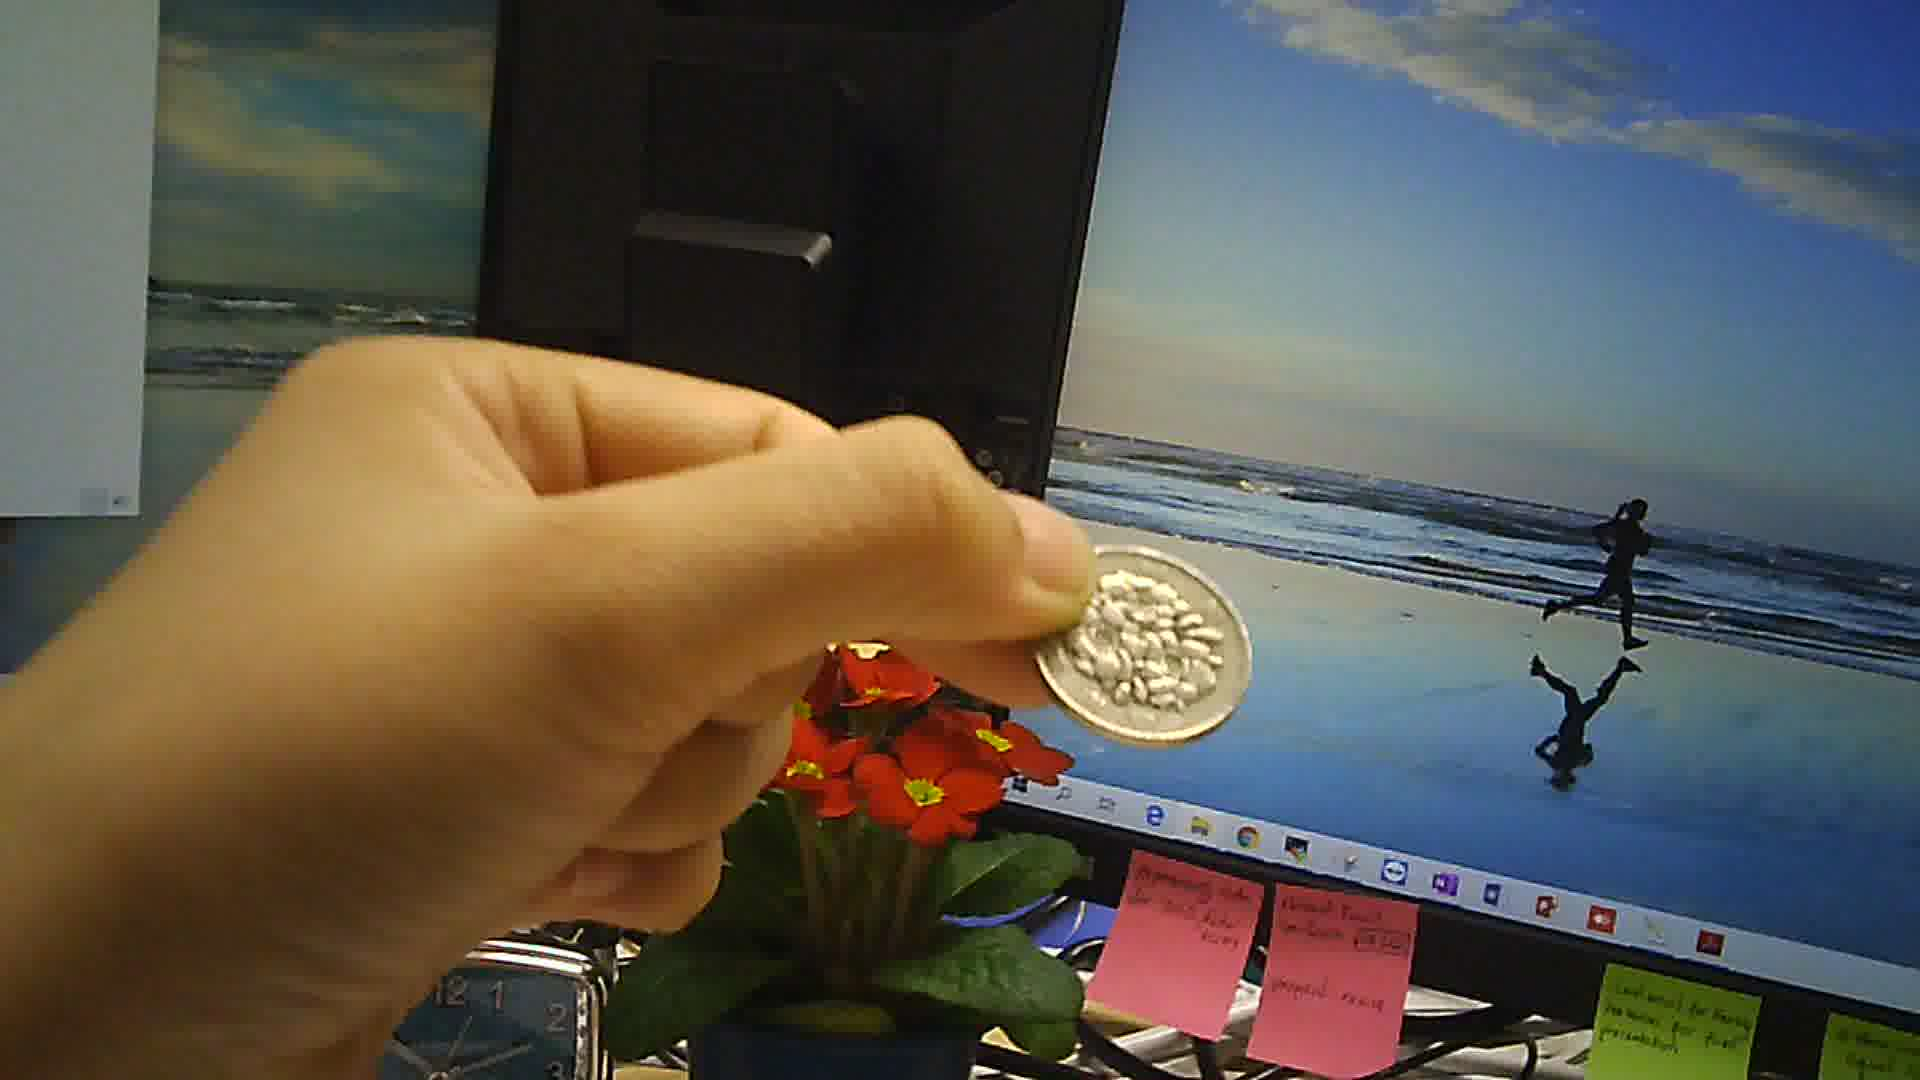100 Yen: (1026, 535, 1265, 742)
